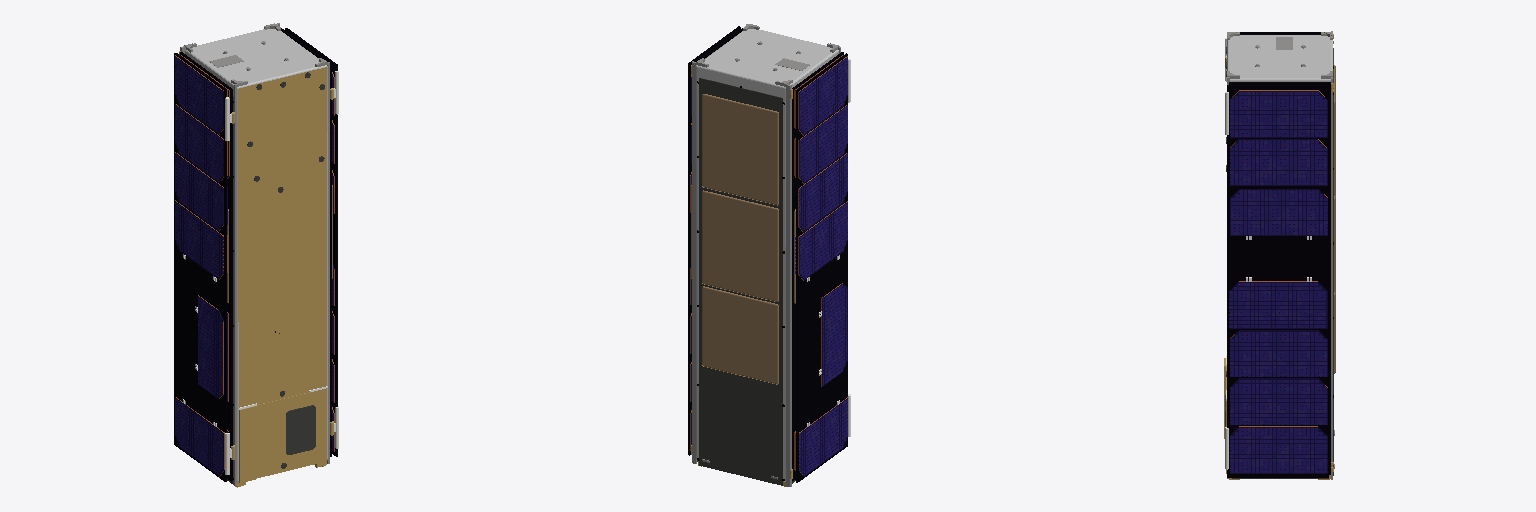
The model's file is MiRaTA.obj.
3 views of the same model, side by side, from view 1: azimuth 30°, elevation 25°; view 2: azimuth 150°, elevation 25°; view 3: azimuth 270°, elevation 25° (orthographic).
Size of the model in its own units: 0.5162 by 1.76 by 0.438.